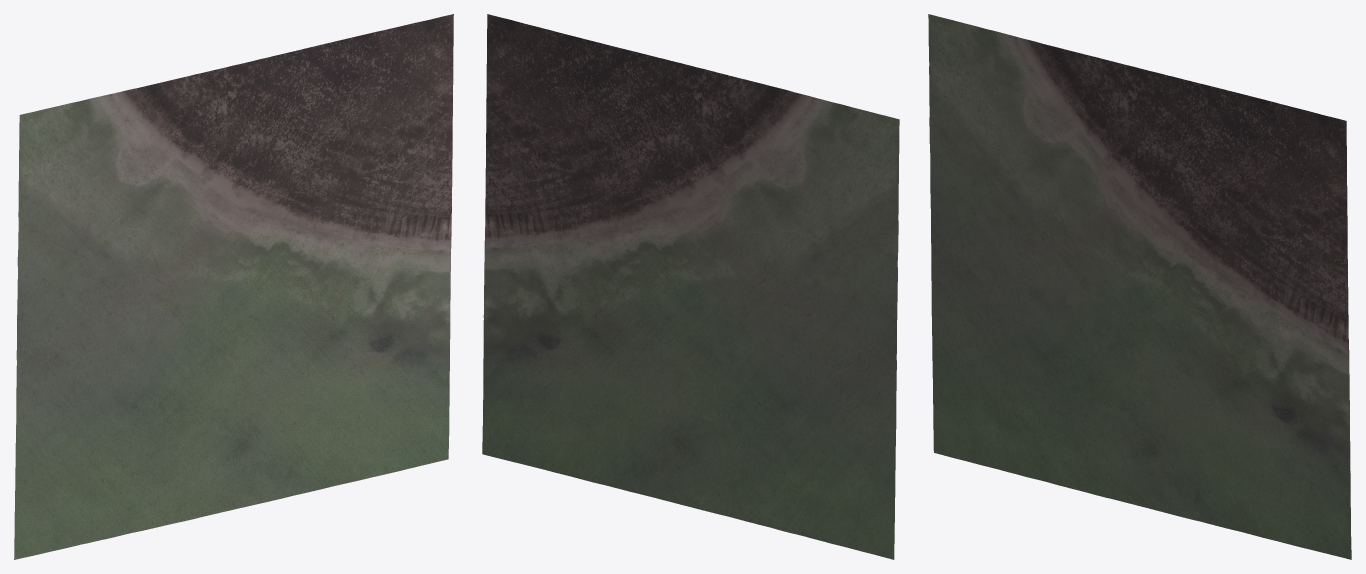
The model's file is Tile_+015_+007.fbx.
3 views of the same model, side by side, from view 1: azimuth 30°, elevation 25°; view 2: azimuth 150°, elevation 25°; view 3: azimuth 330°, elevation 25° (orthographic). The views are drawn at different scales.
Visible parts, largest first — view 1: DefaultName; view 2: DefaultName; view 3: DefaultName.
Boxes of the visible parts, box(x1,y1,x2,y2) form: DefaultName: box(14, 14, 453, 559); DefaultName: box(482, 14, 899, 559); DefaultName: box(928, 14, 1351, 559).
Bounding box in the file's own units: 22.54 × 22.54 × 0.9665.
